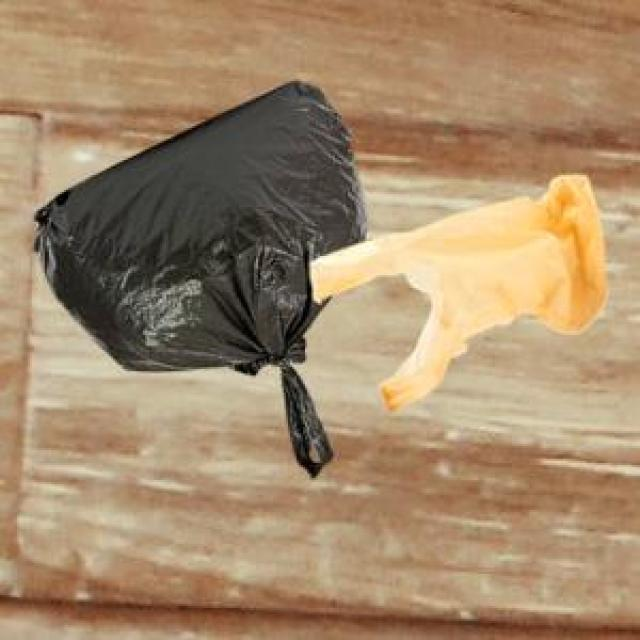miscellaneous trash: (30, 77, 363, 474)
